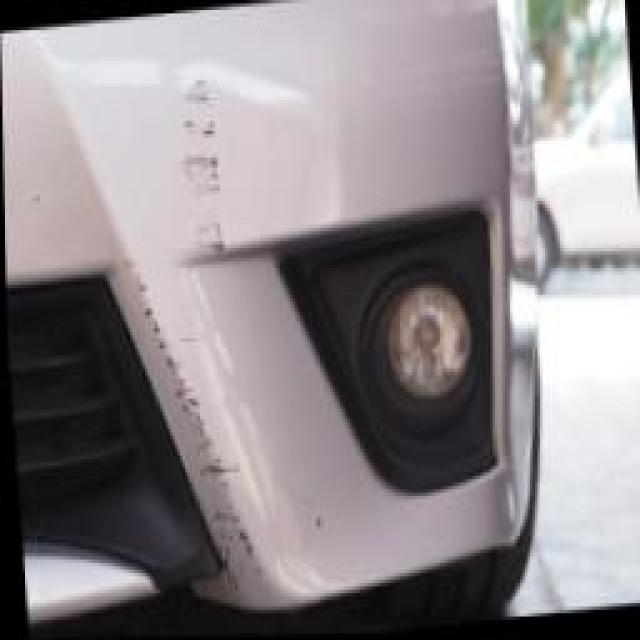Bumper: (68, 23, 375, 598)
